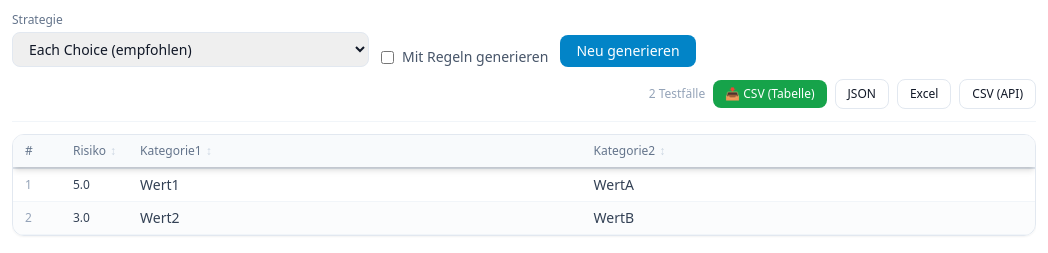
Test: TestCasePanel - REQ-3052 Office-ähnliche Tabelle › sortiert Spalten bei Header-Klick
Erster Klick: aufsteigend sortieren
Click the column heading "Risiko↕": [95, 152] box 61,135 -> 128,168
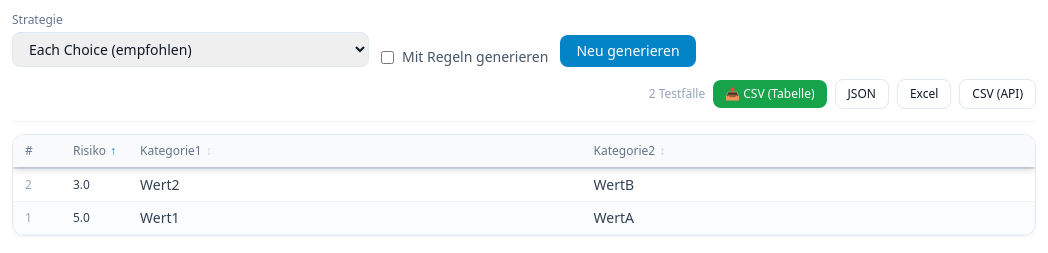
Expected: the cell "3.0" is shown, 61,168 -> 128,202
Expected: the cell "5.0" is shown, 61,202 -> 128,234
